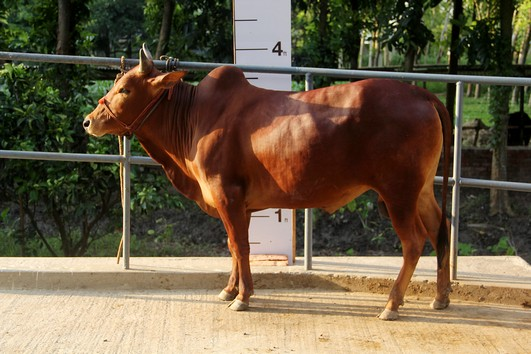cow: (77, 40, 461, 321)
